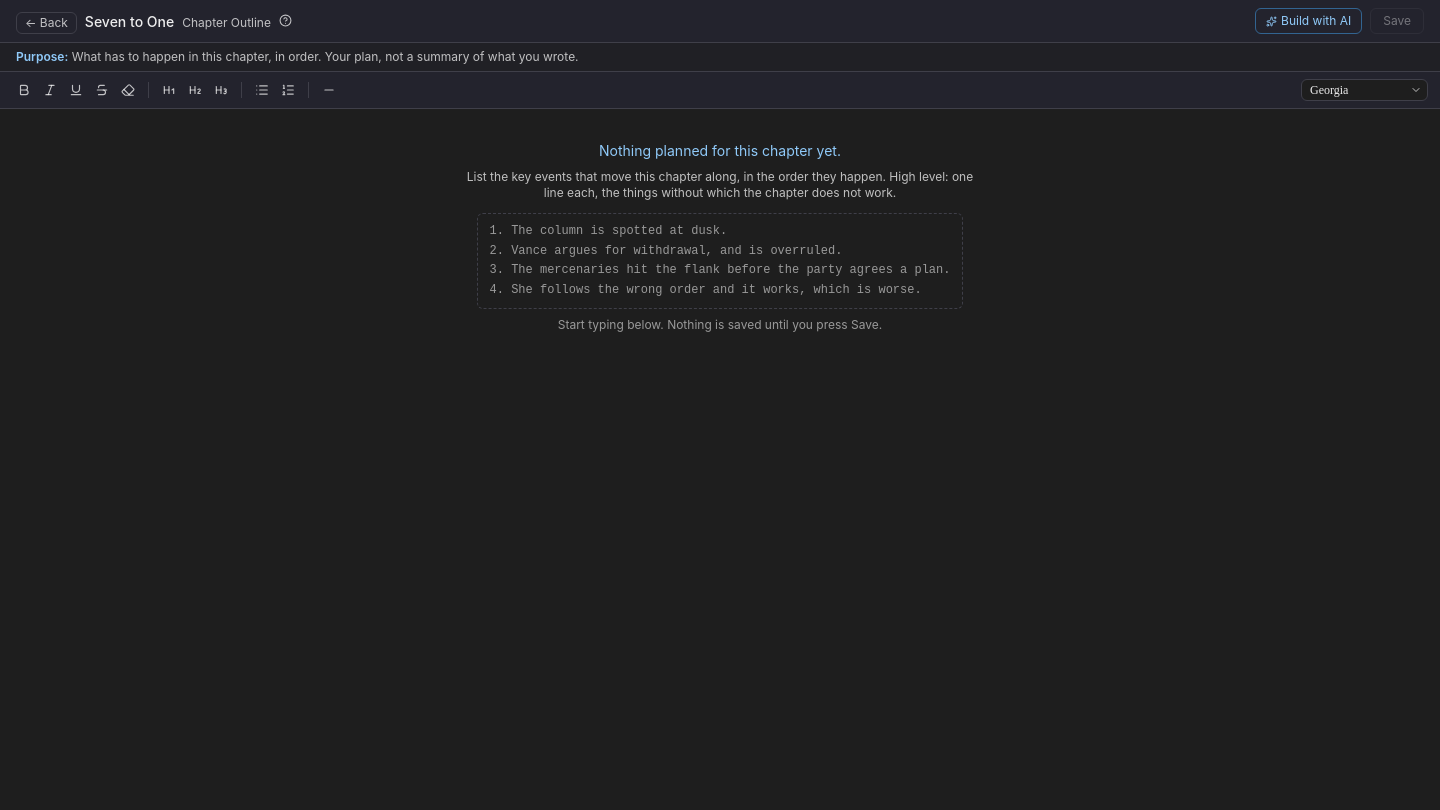
Test: build with AI › says what Insert will do before it is pressed
Expected: the text "Seven to One" is shown, [85,12,174,32]
Click the button "Build with AI".
click(1309, 21)  # box [1255,8,1362,34]
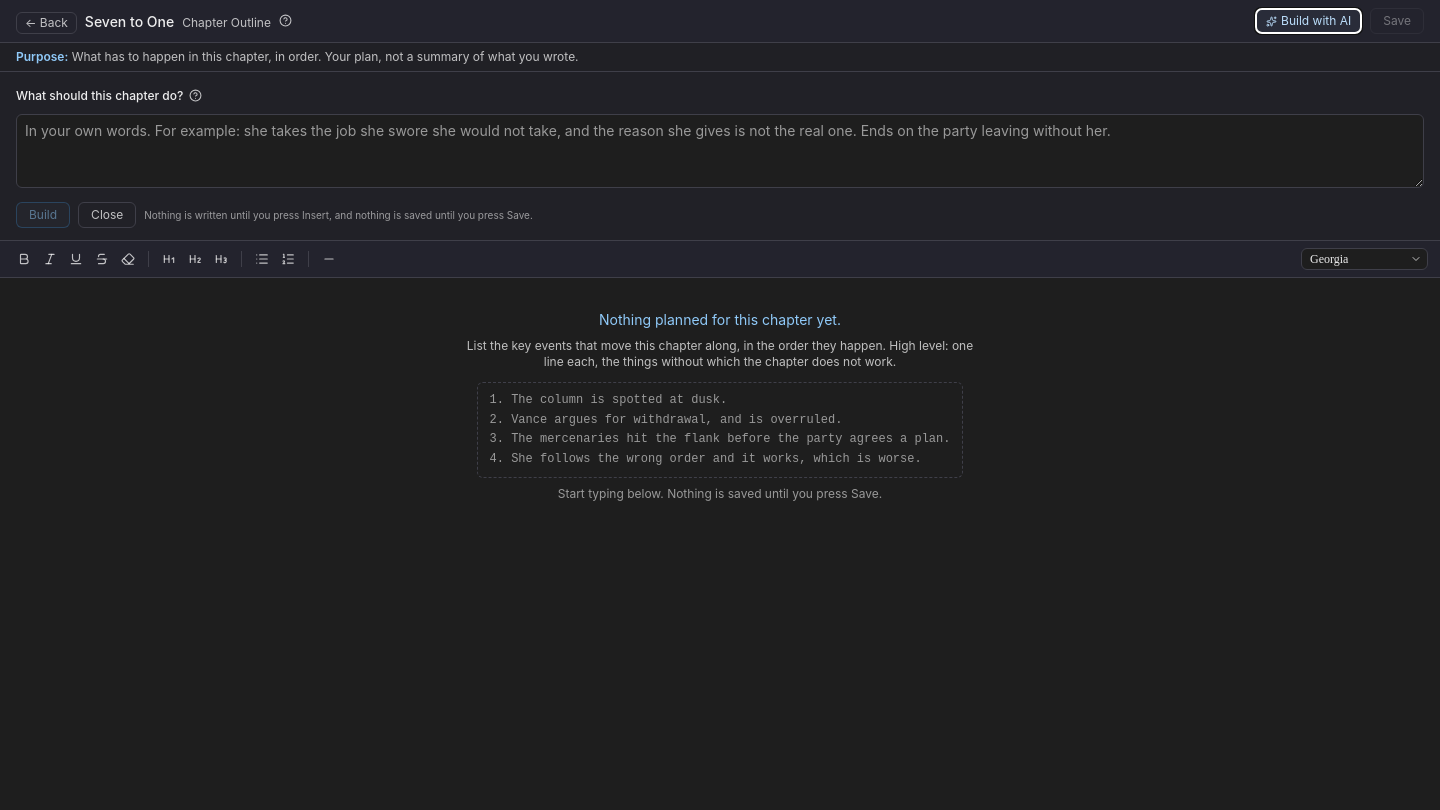
Type "x" into the text box with placeholder "In your own words".
click(720, 151); type("x")  # box [16,114,1424,188]
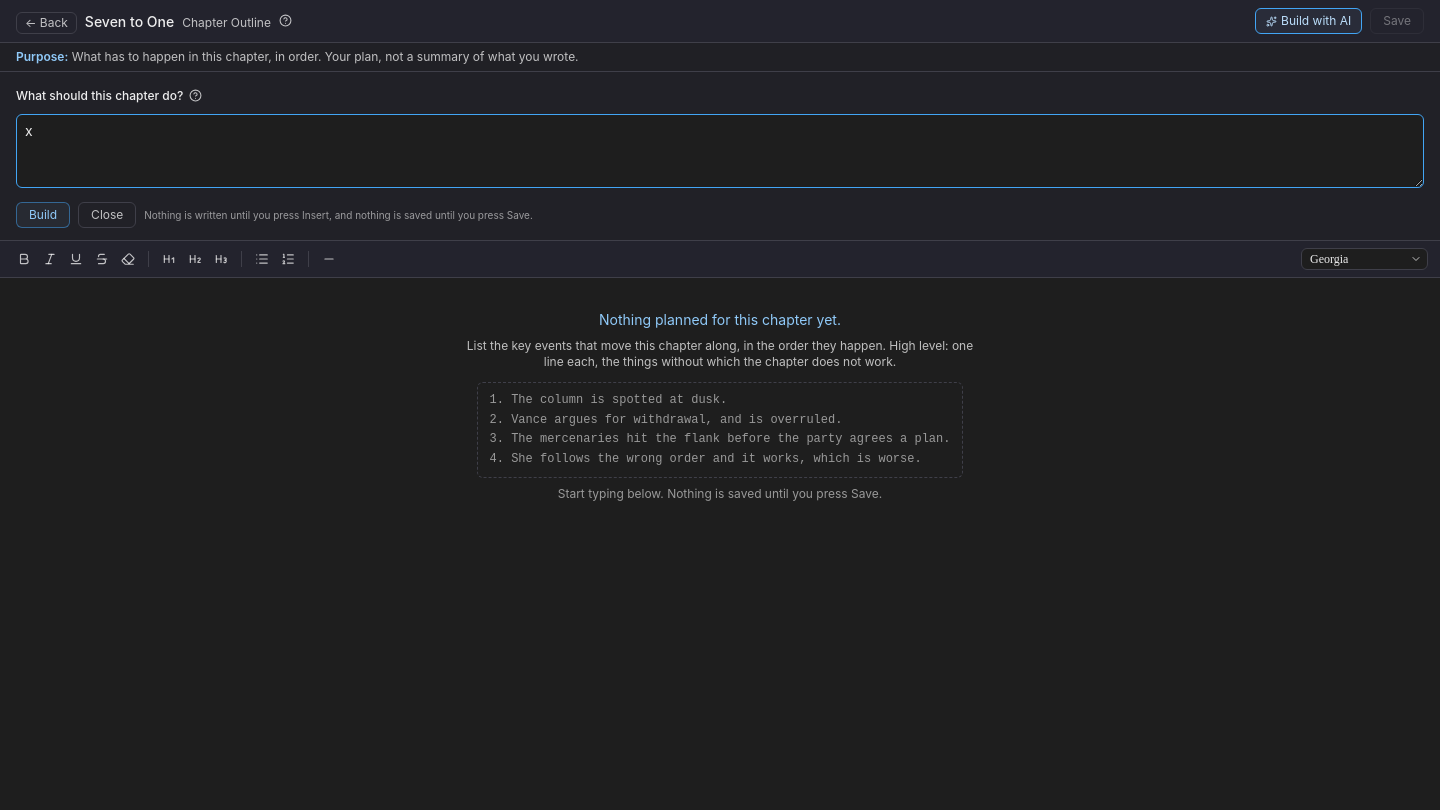
Click the button "Build".
click(43, 215)  # box [16,202,70,228]
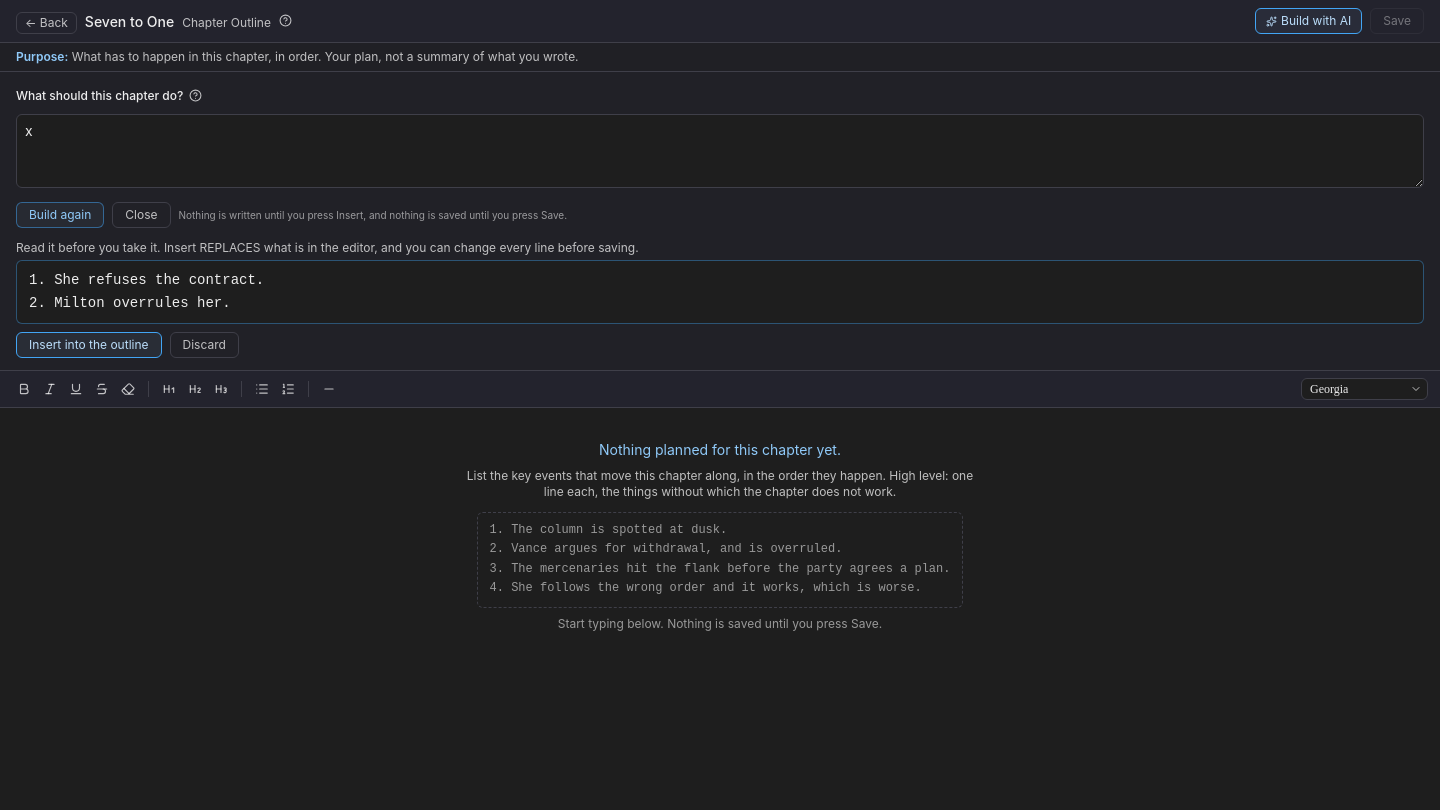
Expected: the element with test id "outline-proposal" is shown, [16,240,1424,358]
Expected: the text "Insert REPLACES what is in the editor" is shown, [16,240,639,255]
